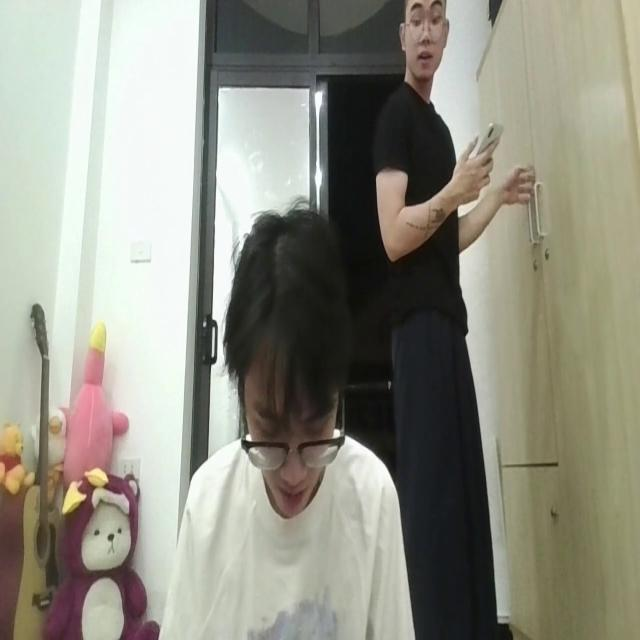extra_person: (383, 0, 510, 640)
student: (152, 203, 405, 640)
